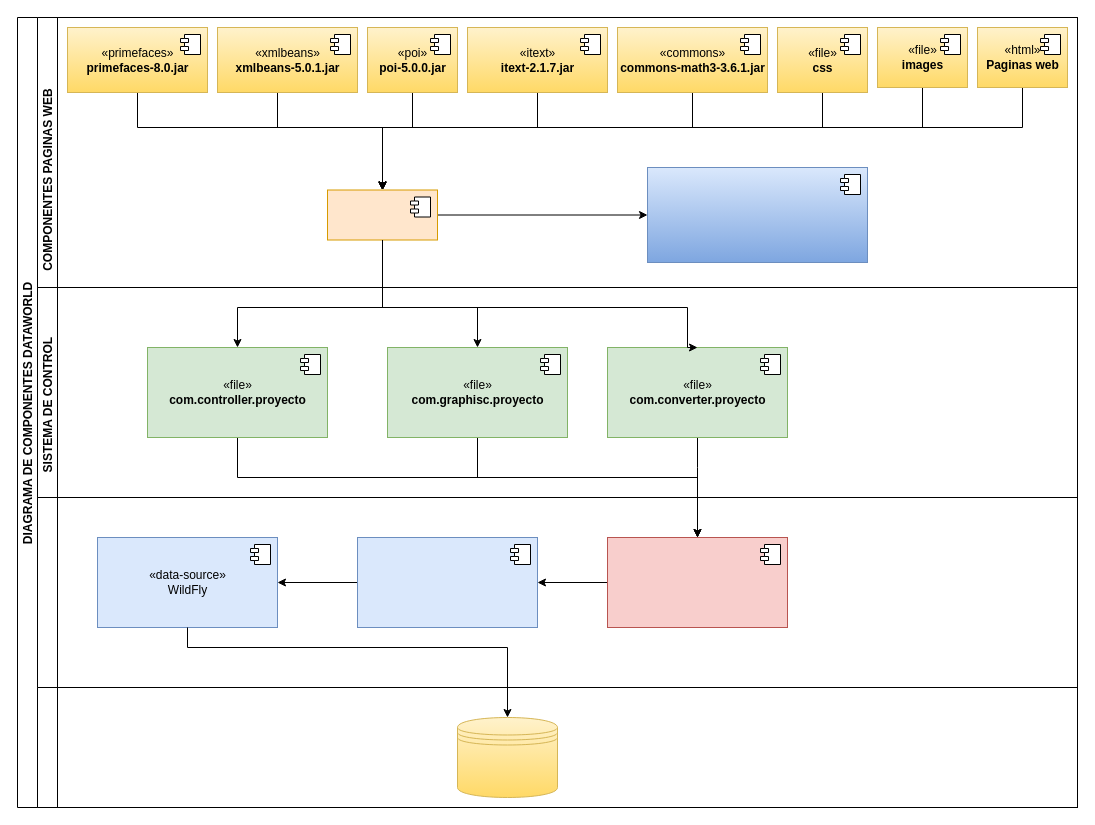
The diagram is 1095 pixels wide and 825 high, and some of its shapes have lost their labels. Each missing label, with the box of its shape:
<<Database>> dataworld: (456, 716, 558, 798)
BASE DE DATOS: (36, 686, 1078, 808)
SISTEMA LÓGICO: (36, 496, 1078, 688)
«execute» Navegador: (646, 166, 868, 262)
«file» com.daos.proyecto: (606, 536, 788, 628)
«file» com.entities.proyecto: (356, 536, 538, 628)
«file» WebContent: (326, 189, 438, 240)
